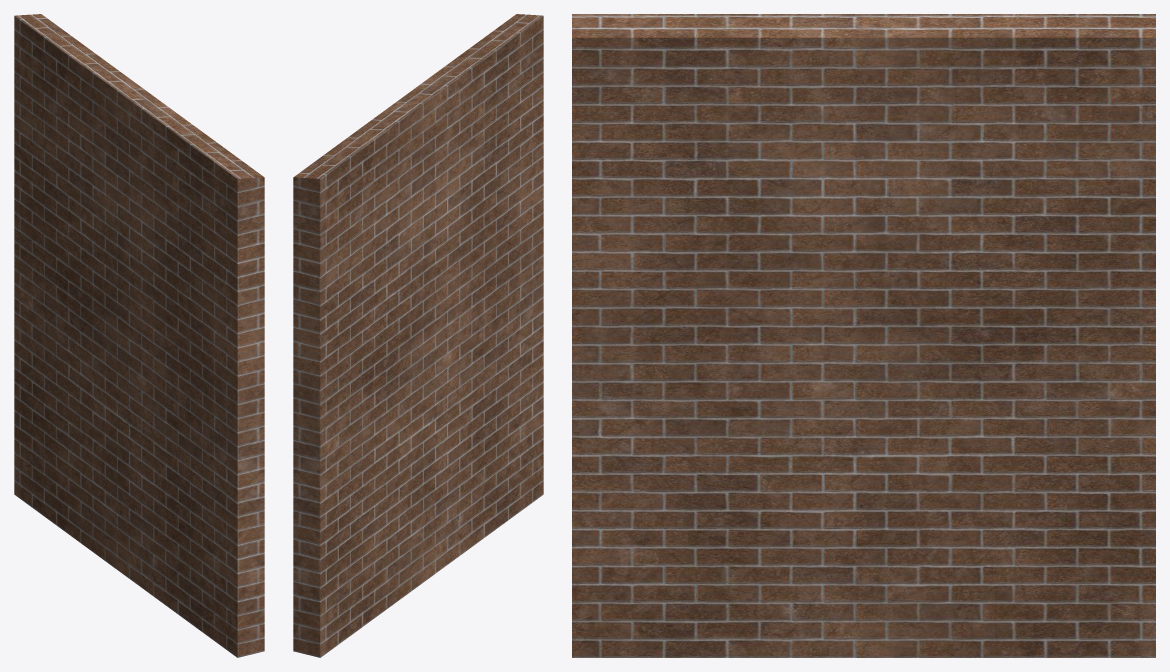
File: Joglo_part_275.fbx
The picture shows the model from 3 angles, left to right: view 1: azimuth 30°, elevation 25°; view 2: azimuth 150°, elevation 25°; view 3: azimuth 270°, elevation 25°; orthographic projection. The views are drawn at different scales.
Parts seen in each view (by area): view 1: Mesh340_Brick___Brown_0.001; view 2: Mesh340_Brick___Brown_0.001; view 3: Mesh340_Brick___Brown_0.001.
Boxes of the visible parts, x1,y1,x2,y2 form: Mesh340_Brick___Brown_0.001: (14, 14, 264, 657); Mesh340_Brick___Brown_0.001: (293, 14, 543, 657); Mesh340_Brick___Brown_0.001: (572, 14, 1155, 657).
Bounding box in the file's own units: 5.91 × 100 × 84.64.
